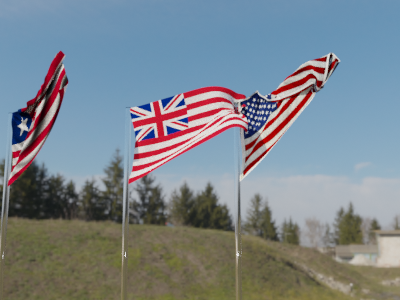America flag: (249, 53, 345, 182)
Liberia flag: (10, 51, 75, 187)
Malaysia flag: (132, 80, 244, 184)
